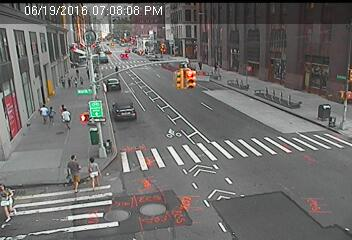neg: (240, 61, 255, 81), (156, 44, 168, 59), (189, 36, 199, 49), (269, 32, 278, 44), (181, 59, 188, 69)
pos: (58, 154, 86, 192), (79, 155, 103, 188), (55, 107, 73, 132), (36, 102, 51, 123), (44, 104, 58, 123), (213, 63, 225, 80), (57, 72, 67, 85), (71, 76, 80, 88), (209, 61, 218, 73), (64, 74, 73, 85), (111, 62, 119, 73), (197, 59, 204, 69), (59, 101, 66, 110), (74, 66, 80, 75)
